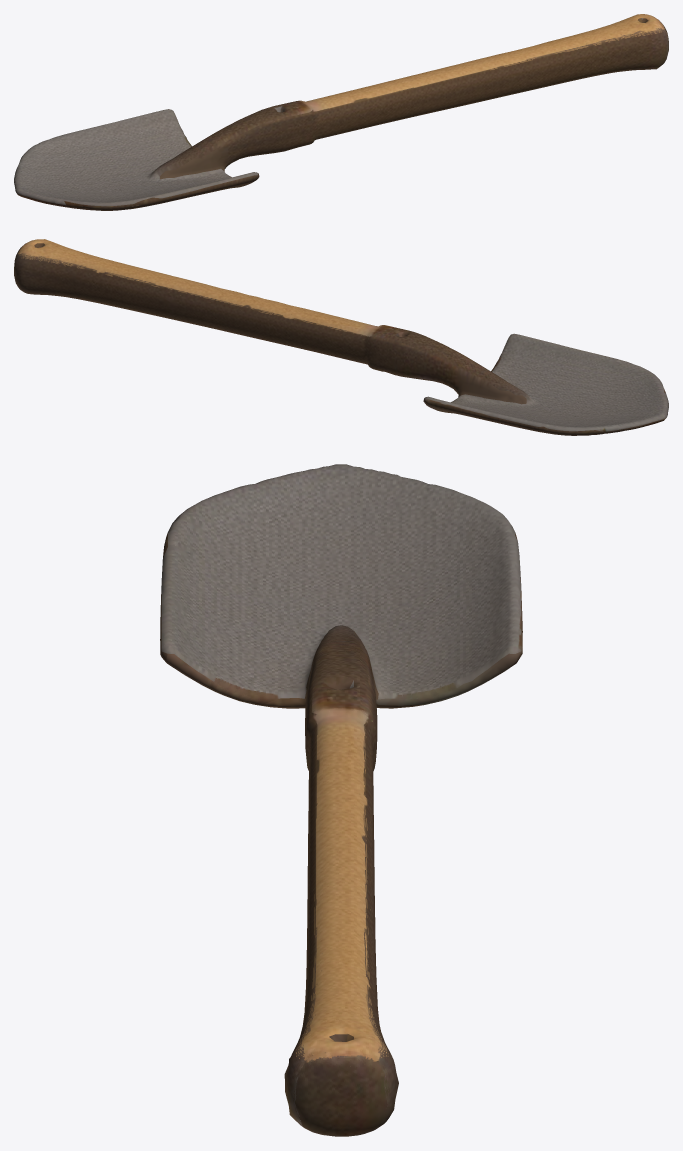
File: pala.glb
3 views of the same model, one above another, from view 1: azimuth 30°, elevation 25°; view 2: azimuth 150°, elevation 25°; view 3: azimuth 270°, elevation 25° (orthographic). The views are drawn at different scales.
Visible parts, largest first — view 1: temp_mesh.ply; view 2: temp_mesh.ply; view 3: temp_mesh.ply.
Part boxes in pixels (<box>): temp_mesh.ply: <box>14,14,668,210</box>; temp_mesh.ply: <box>14,239,668,435</box>; temp_mesh.ply: <box>160,464,522,1136</box>.
Bounding box in the file's own units: 1.35 × 0.0966 × 0.3291.
1 material, 1 textured.
